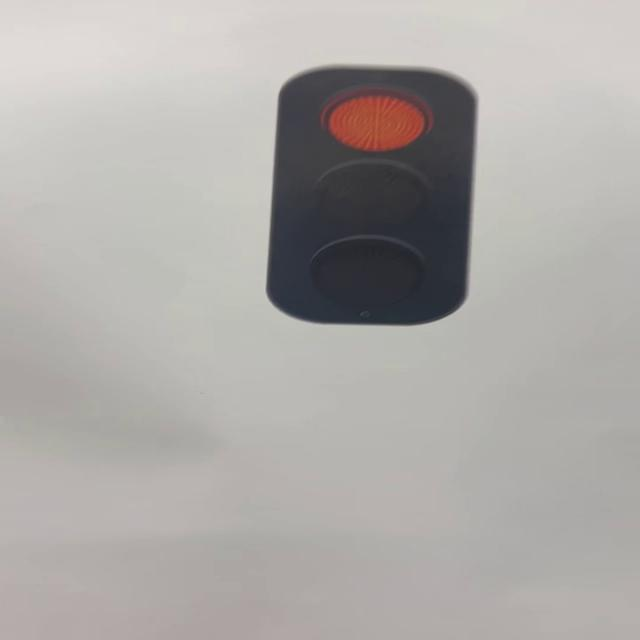red: (265, 64, 478, 327)
